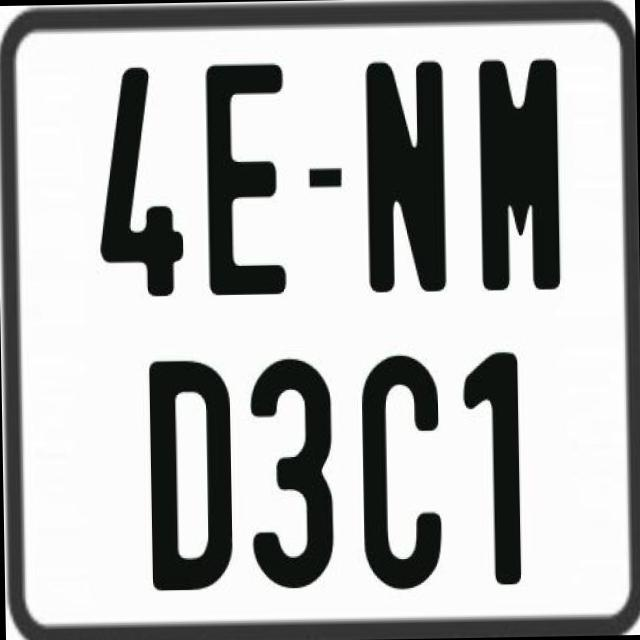1: (462, 347, 520, 585)
3: (248, 355, 340, 590)
4: (94, 63, 185, 303)
C: (359, 354, 449, 592)
D: (148, 356, 240, 589)
E: (204, 59, 292, 300)
M: (476, 55, 558, 296)
N: (362, 57, 450, 295)
